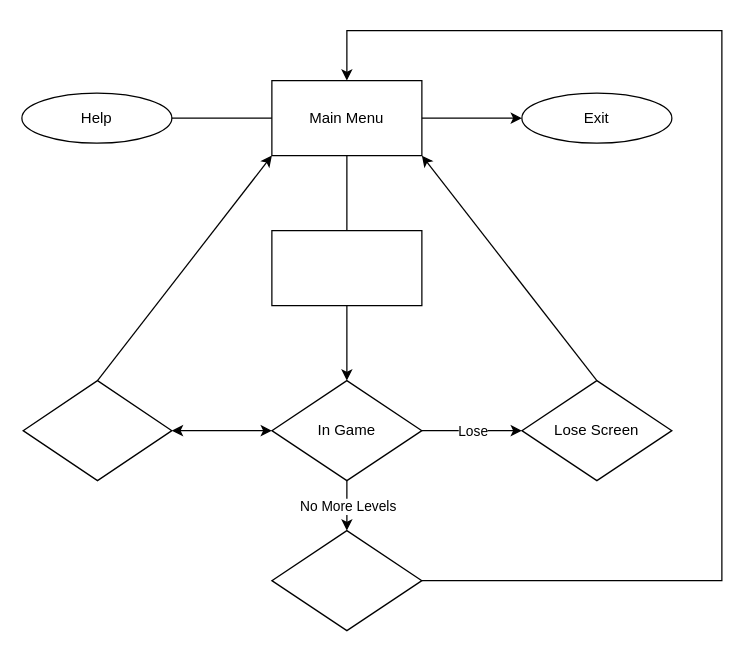
This 754x653 diagram has some shape labels left out. Each missing label, with the centre of its shape:
"Next Level?" goes at (x=97, y=430).
"Start Game" goes at (x=346, y=267).
"You win!" goes at (x=346, y=580).
